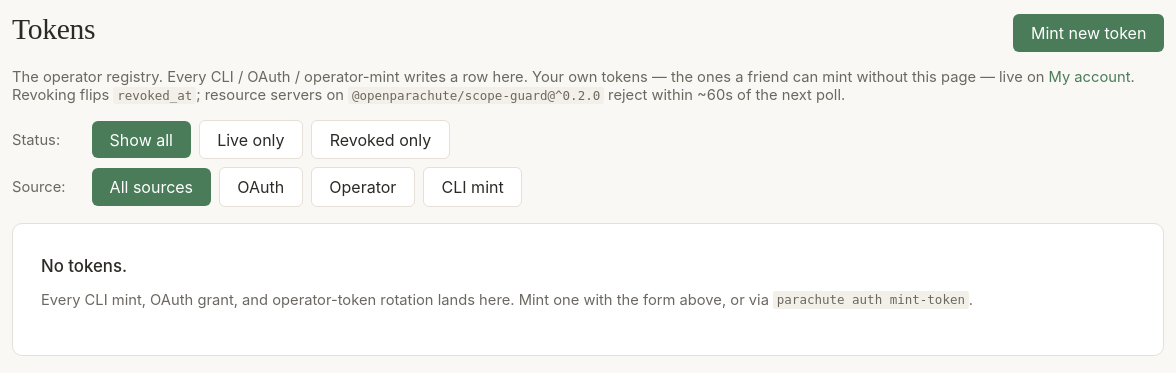
Tokens — source chip per row (hub#212 Phase F) › renders 'No tokens match the current filter' empty state when filters are active
Expected: the text "No tokens." is shown, [41,256,127,276]
Click the button "Operator" at (363, 187), box [311,167,415,207]
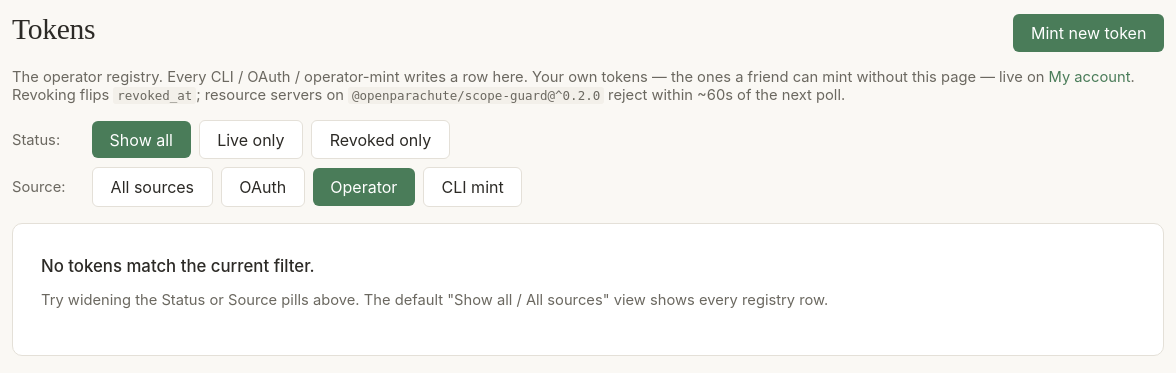
Result: the text "No tokens match the current filter." is shown at [41,256,315,276]
